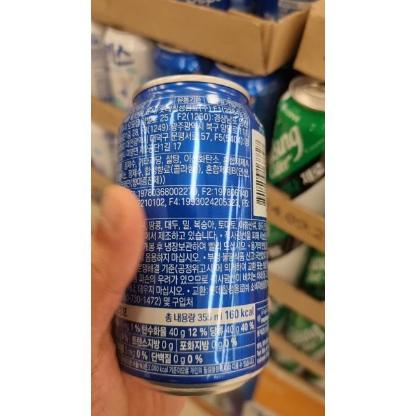Can: (108, 72, 270, 398)
